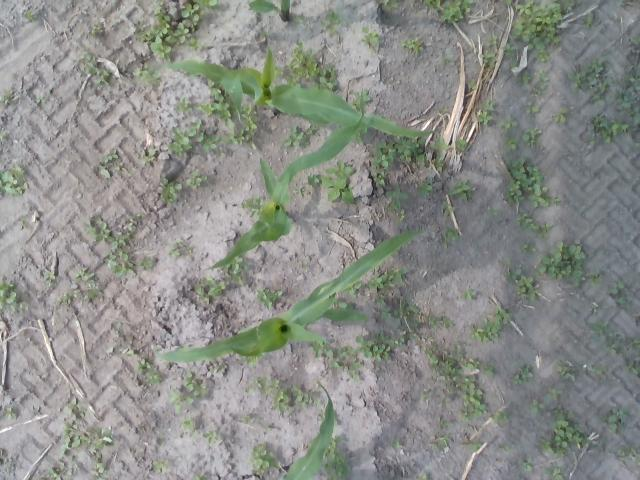Maize: (150, 228, 422, 364), (142, 30, 438, 138), (205, 90, 368, 274), (274, 382, 335, 480), (248, 0, 292, 18)
Weeds: (511, 0, 574, 48), (538, 408, 590, 458), (502, 155, 550, 209), (534, 242, 586, 286), (568, 55, 610, 108), (58, 422, 112, 459), (467, 306, 514, 344), (320, 160, 358, 206), (284, 40, 320, 88), (198, 88, 236, 128), (110, 214, 141, 262), (616, 64, 640, 125), (456, 374, 486, 422), (586, 114, 629, 146), (329, 344, 364, 382), (167, 119, 202, 157), (321, 435, 350, 480), (394, 134, 429, 166), (248, 442, 280, 476), (80, 50, 110, 86), (0, 162, 29, 197), (356, 334, 391, 362), (0, 280, 28, 312), (366, 268, 408, 289), (372, 134, 397, 169), (194, 275, 225, 303), (102, 251, 134, 278), (222, 253, 248, 286), (134, 357, 164, 385), (148, 0, 172, 35), (393, 299, 420, 330), (84, 214, 115, 241), (36, 461, 78, 480), (441, 0, 474, 24), (167, 388, 195, 416), (602, 406, 628, 436), (431, 358, 462, 382), (290, 385, 322, 408), (238, 101, 259, 136), (182, 370, 208, 398), (515, 273, 540, 302), (99, 148, 122, 178), (316, 61, 338, 92), (255, 287, 284, 310), (181, 2, 204, 31), (149, 34, 171, 64), (319, 11, 346, 35), (244, 376, 280, 394), (132, 61, 160, 84), (384, 186, 408, 212), (165, 22, 191, 46), (610, 280, 630, 310), (166, 238, 193, 260), (60, 395, 84, 419), (614, 444, 640, 466), (553, 360, 579, 382), (159, 176, 181, 202), (283, 125, 310, 146), (307, 338, 333, 359), (448, 178, 472, 200), (242, 194, 264, 218), (512, 362, 534, 386), (475, 100, 496, 125), (360, 26, 380, 52), (220, 129, 250, 146), (520, 126, 542, 149), (424, 342, 442, 370), (532, 68, 550, 96), (514, 213, 540, 232), (586, 320, 609, 341), (350, 88, 370, 112), (272, 386, 290, 412), (197, 132, 219, 153), (54, 289, 78, 308), (430, 137, 450, 158), (135, 27, 163, 42), (441, 226, 458, 250), (399, 36, 424, 52), (186, 170, 208, 188), (238, 352, 264, 367), (178, 414, 197, 434), (172, 96, 193, 114), (496, 115, 520, 130), (534, 222, 554, 240), (430, 433, 450, 451), (552, 106, 570, 126), (543, 464, 565, 480), (90, 460, 107, 480), (604, 340, 624, 357), (479, 50, 496, 70), (74, 266, 95, 282), (585, 268, 603, 286), (518, 456, 536, 474), (342, 280, 362, 296), (84, 283, 104, 299), (460, 438, 482, 452), (502, 132, 519, 150), (370, 170, 388, 187), (392, 329, 408, 348), (185, 36, 204, 52), (192, 0, 221, 10), (504, 268, 522, 284), (448, 342, 464, 360), (140, 146, 156, 164), (134, 256, 154, 270), (202, 430, 222, 444), (490, 409, 510, 423), (534, 48, 552, 63), (417, 179, 433, 195), (624, 360, 640, 376), (524, 100, 540, 116), (546, 388, 564, 402), (442, 200, 457, 216), (460, 358, 480, 370), (482, 362, 497, 378), (454, 136, 468, 153), (152, 458, 169, 472), (582, 11, 596, 28), (331, 299, 354, 309), (516, 69, 531, 84), (528, 399, 544, 413), (431, 158, 446, 172), (423, 313, 439, 326), (586, 364, 606, 374), (0, 88, 11, 106), (306, 122, 320, 136), (379, 306, 392, 321), (43, 270, 56, 285), (504, 42, 516, 58), (90, 24, 104, 37), (382, 0, 400, 10), (438, 417, 453, 429), (23, 10, 38, 22), (424, 0, 442, 10), (210, 363, 226, 374), (442, 316, 455, 329), (5, 407, 18, 420), (306, 174, 320, 186), (443, 383, 457, 395), (520, 243, 536, 253), (486, 34, 499, 46), (461, 289, 476, 299), (294, 184, 306, 196), (274, 65, 286, 77), (396, 210, 406, 224), (466, 80, 478, 91), (373, 296, 386, 306), (207, 78, 220, 88), (34, 94, 48, 103), (240, 415, 254, 424), (392, 438, 402, 450), (630, 34, 640, 46), (631, 338, 640, 351), (488, 208, 498, 219), (420, 390, 430, 401), (317, 410, 326, 422), (550, 196, 560, 206), (416, 472, 428, 480), (122, 348, 134, 356), (502, 257, 512, 266), (439, 398, 448, 408), (509, 59, 518, 68), (260, 29, 270, 37), (294, 16, 304, 24), (193, 474, 206, 480), (442, 55, 450, 63), (0, 132, 6, 141), (502, 444, 509, 451), (300, 262, 308, 268), (503, 0, 512, 5), (439, 108, 445, 114), (333, 419, 338, 426), (266, 426, 270, 430)
